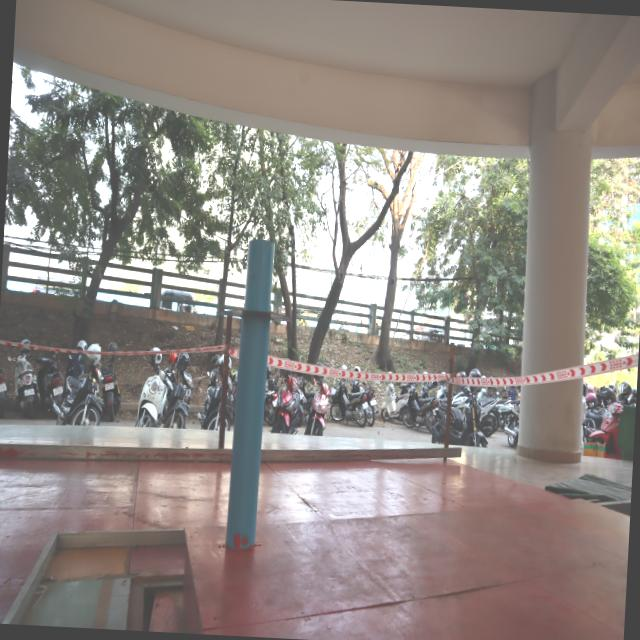pole: (220, 228, 294, 368)
